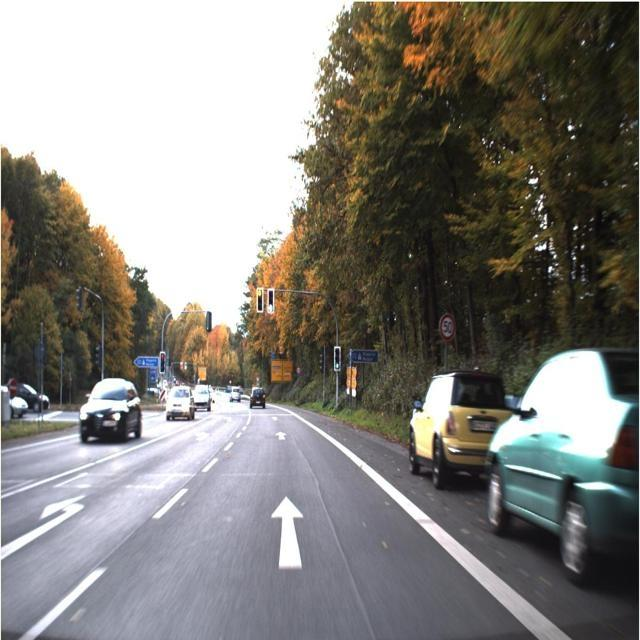forb_speed_over_50: (439, 312, 456, 342)
